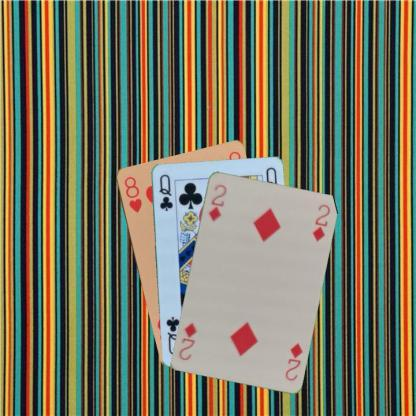2d: (282, 340, 304, 382), (206, 182, 228, 223)
8h: (121, 173, 144, 214)
Qc: (156, 171, 174, 212)
